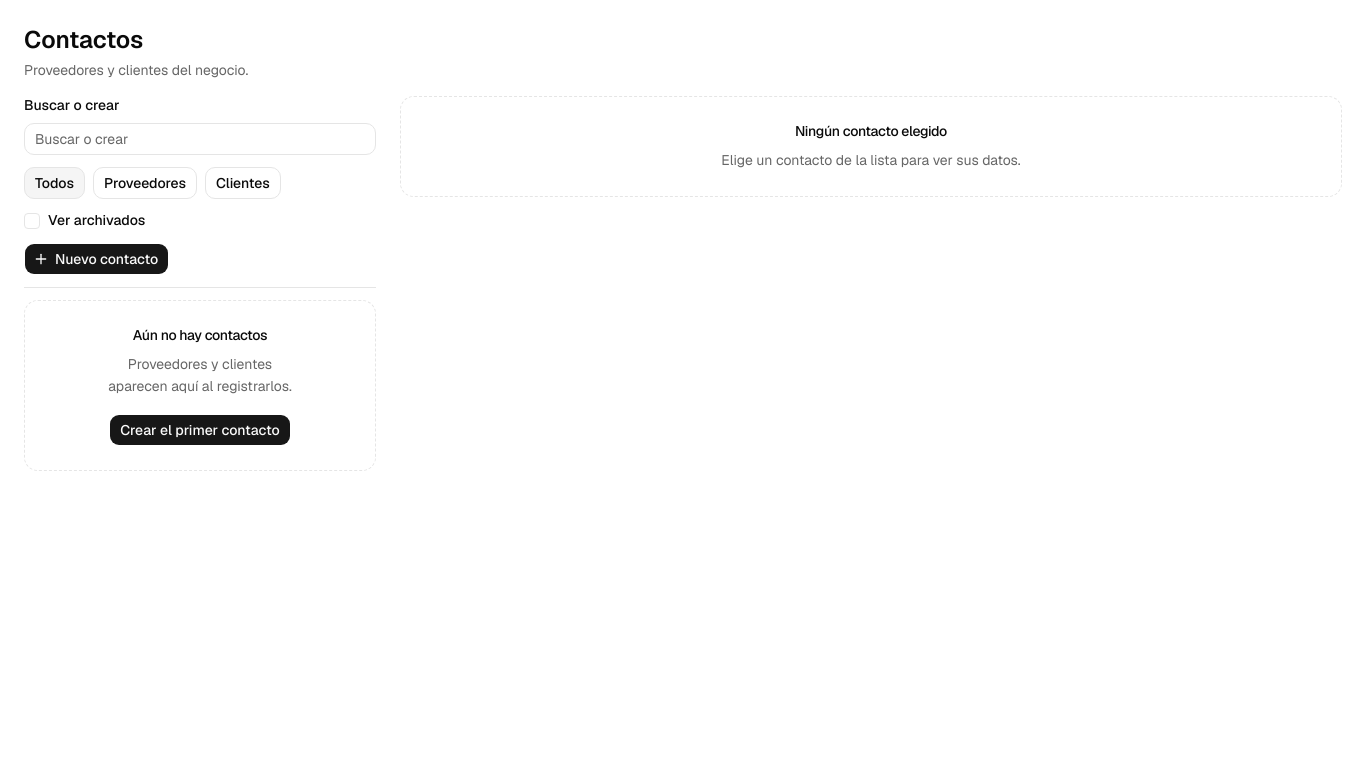
Test: ContactsScreen › guardar sin ningún rol se detiene antes de llegar a la base
Click the button "Nuevo contacto". click: {"x": 97, "y": 258}
box: left=24, top=242, right=169, bottom=274
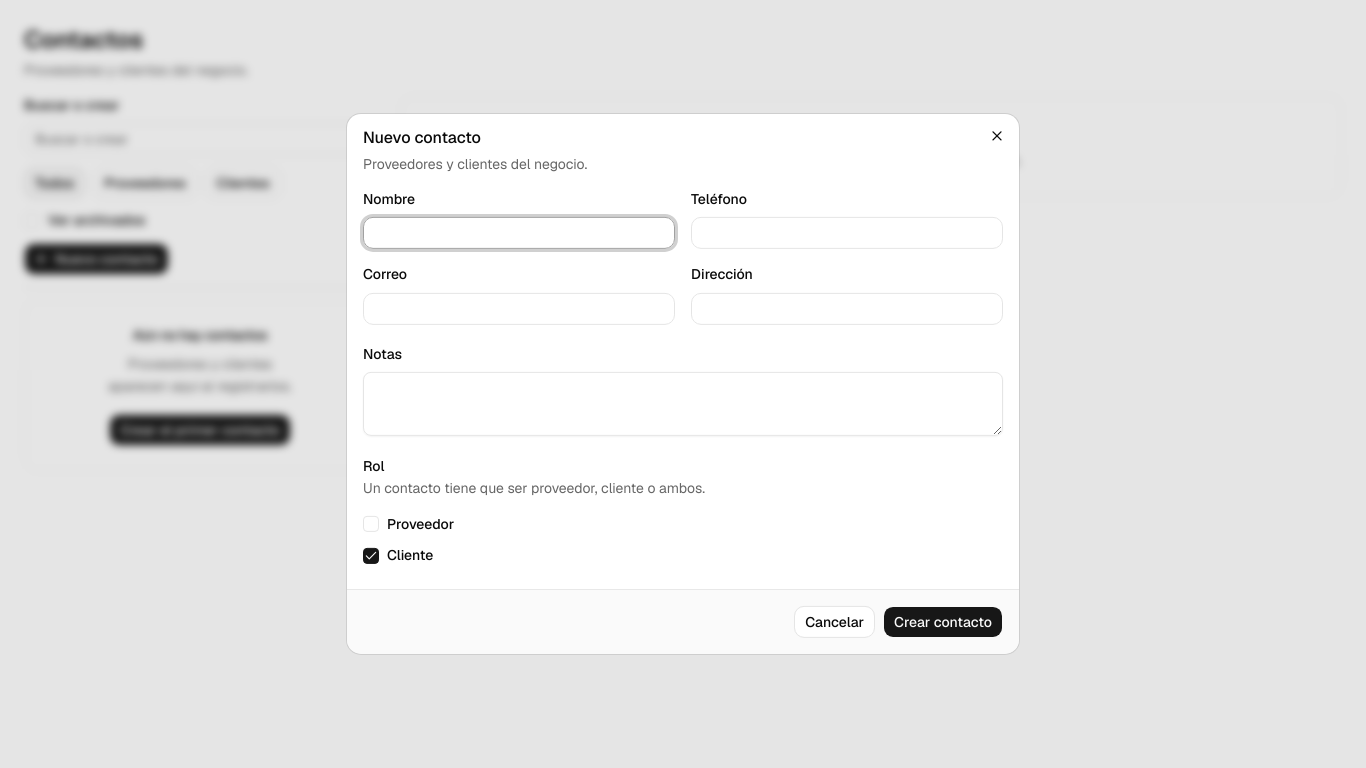
Type "Sin rol" into the field labelled "Nombre". click: {"x": 519, "y": 233}
box: left=363, top=217, right=675, bottom=249
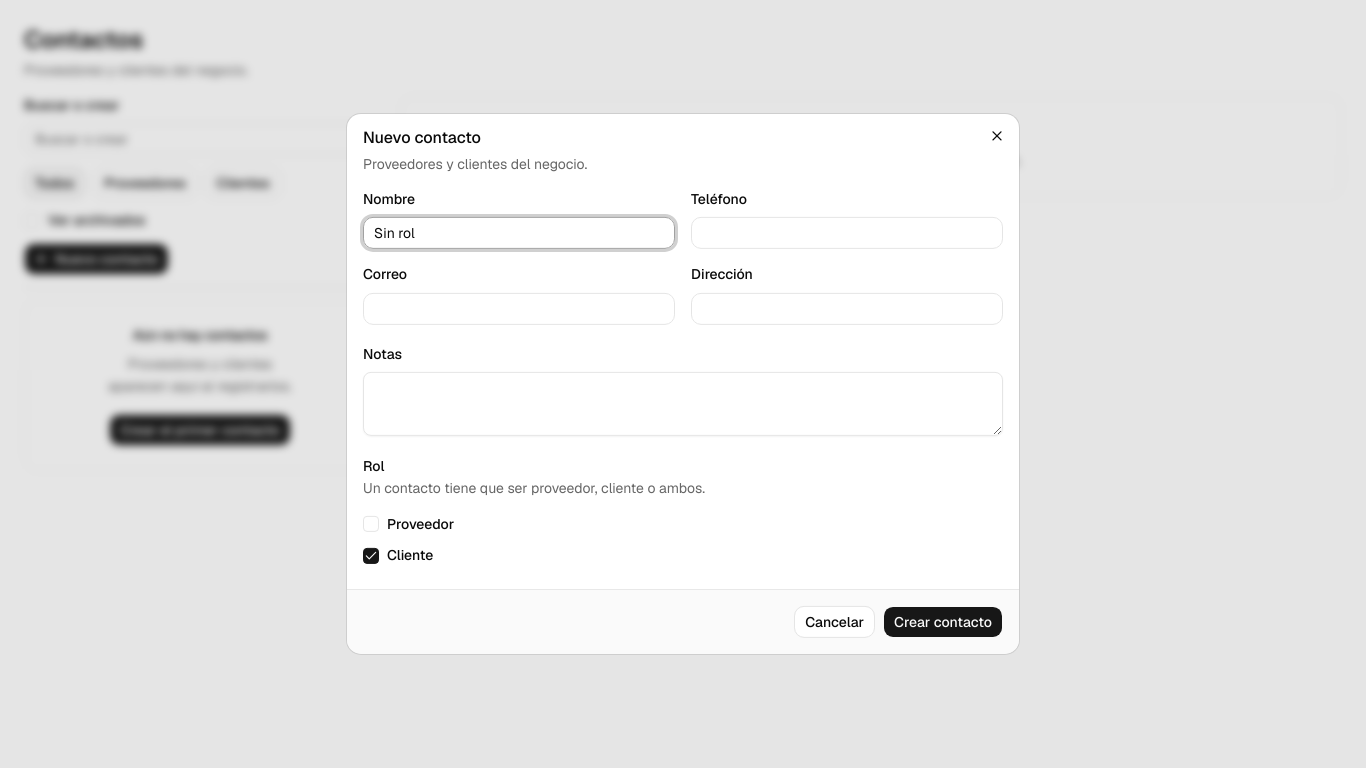
// El formulario nace con "Cliente" marcado: se desmarca para dejarlo sin rol.
Click the 2nd checkbox named "Cliente". click: {"x": 371, "y": 556}
box: left=363, top=548, right=379, bottom=564
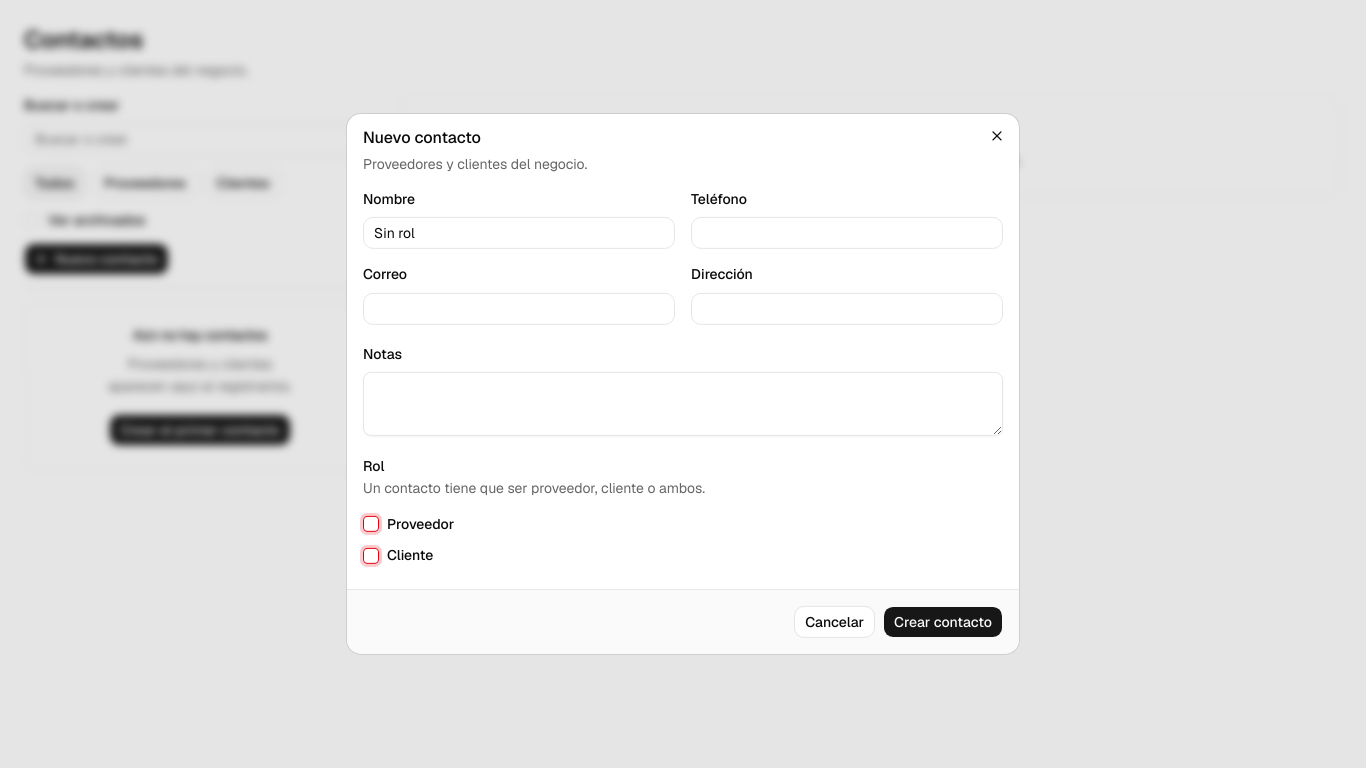
Click the button "Crear contacto". click: {"x": 943, "y": 622}
box: left=883, top=606, right=1003, bottom=638
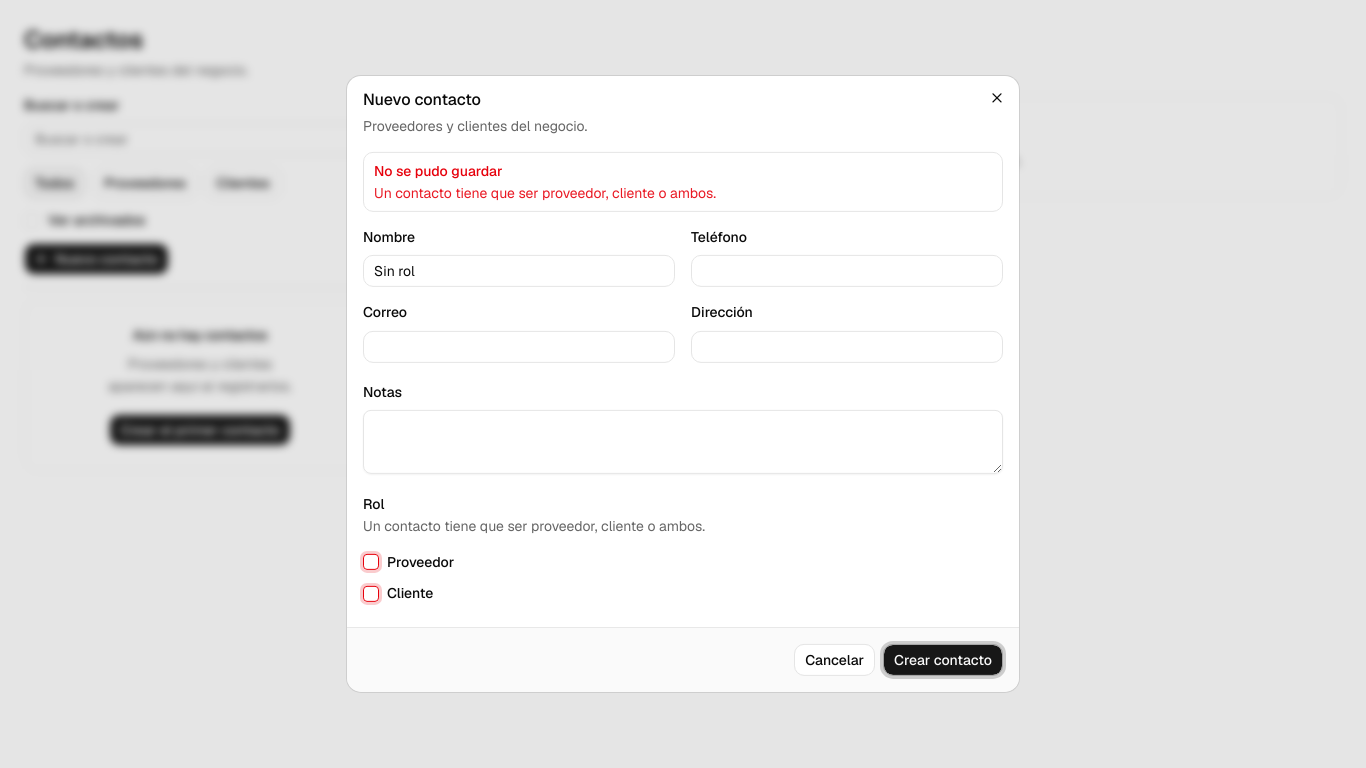
Expected: the message shows "proveedor, cliente o ambos", left=374, top=184, right=716, bottom=202
